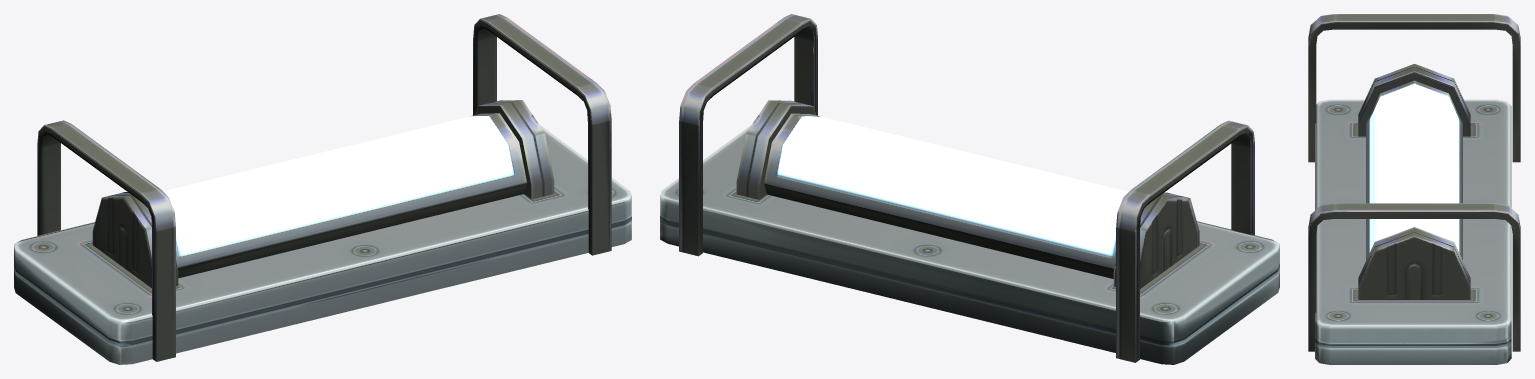
File: Rect_Light.fbx
3 renders of one model, left to right at view 1: azimuth 30°, elevation 25°; view 2: azimuth 150°, elevation 25°; view 3: azimuth 270°, elevation 25°, orthographic. The views are drawn at different scales.
Visible parts, largest first — view 1: pCube1, pCylinder1, pCylinder7, pCylinder18, pCylinder21, pCylinder23; view 2: pCube1, pCylinder1, pCylinder7, pCylinder18, pCylinder21, pCylinder23; view 3: pCube1, pCylinder1, pCylinder23, pCylinder7, pCylinder18, pCylinder21.
Boxes of the visible parts, <box> form: pCube1: <box>14,124,631,364</box>; pCylinder1: <box>163,113,526,278</box>; pCylinder7: <box>37,120,175,361</box>; pCylinder18: <box>473,14,611,255</box>; pCylinder21: <box>92,192,178,287</box>; pCylinder23: <box>475,100,554,199</box>; pCube1: <box>660,124,1279,364</box>; pCylinder1: <box>764,113,1128,278</box>; pCylinder7: <box>1116,120,1254,362</box>; pCylinder18: <box>679,14,817,256</box>; pCylinder21: <box>1113,192,1199,288</box>; pCylinder23: <box>736,100,815,199</box>; pCube1: <box>1315,99,1511,364</box>; pCylinder1: <box>1366,80,1462,260</box>; pCylinder23: <box>1358,227,1470,299</box>; pCylinder7: <box>1308,14,1520,162</box>; pCylinder18: <box>1308,203,1520,351</box>; pCylinder21: <box>1358,64,1470,136</box>.
Bounding box in the file's own units: 68.15 × 19.63 × 27.01.
